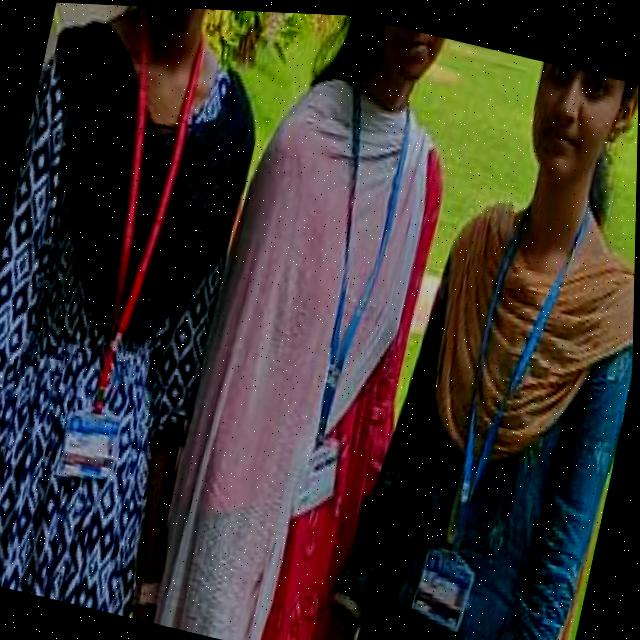id_card: (30, 1, 237, 494), (257, 59, 446, 530), (406, 161, 585, 640)
